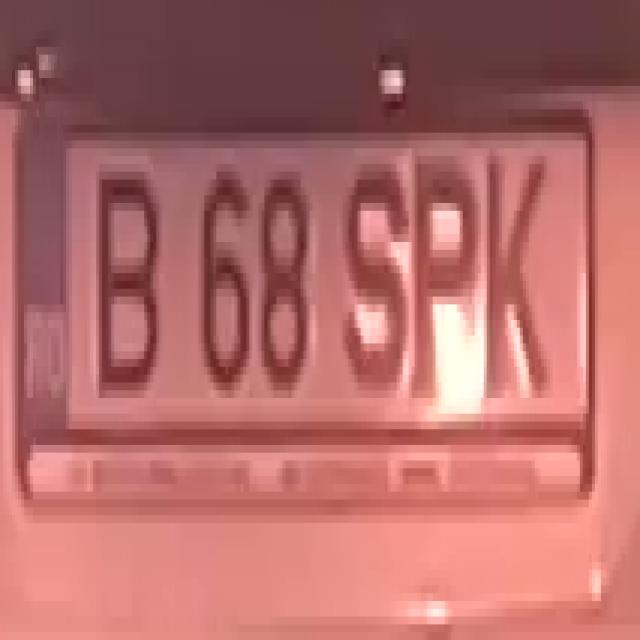EU: (18, 108, 594, 489)
Romanie: (15, 115, 71, 468)
